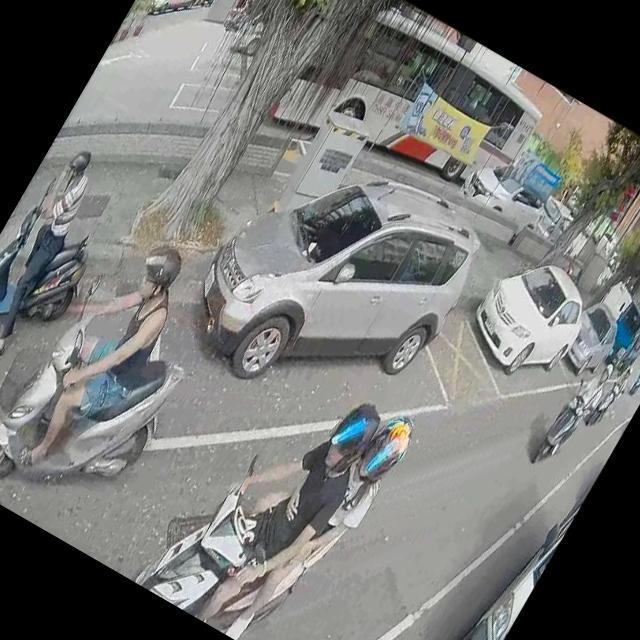person: (159, 357, 393, 640), (191, 378, 419, 640), (3, 218, 211, 498), (0, 141, 113, 366), (539, 350, 620, 462), (596, 362, 636, 422), (230, 0, 254, 25), (633, 355, 640, 390)
